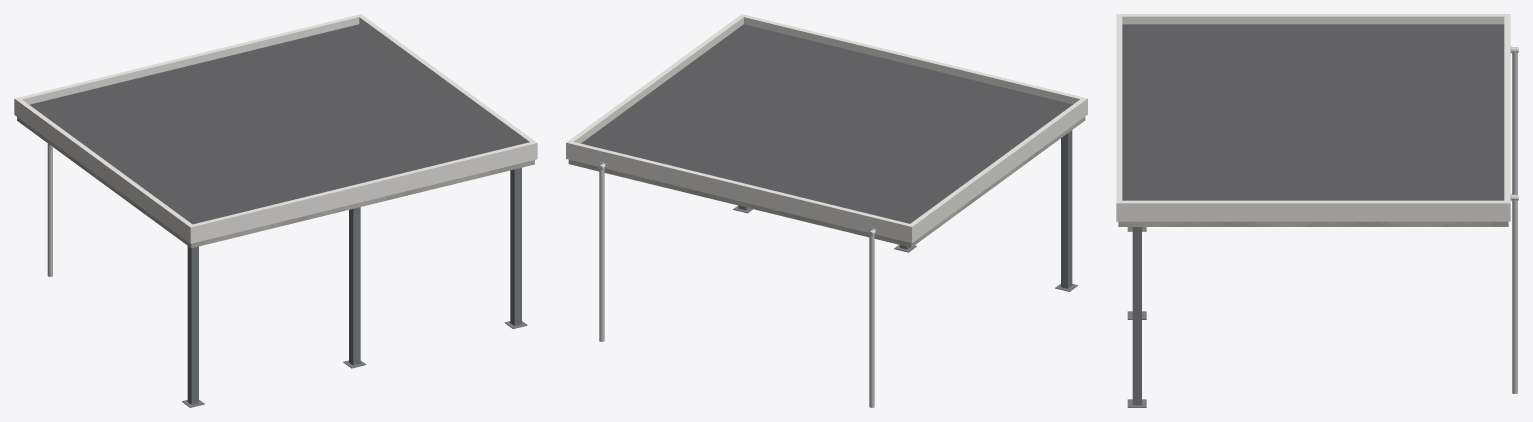
The model's file is r_roof.glb.
The picture shows the model from 3 angles, left to right: view 1: azimuth 30°, elevation 25°; view 2: azimuth 150°, elevation 25°; view 3: azimuth 270°, elevation 25°; orthographic projection. The views are drawn at different scales.
Parts seen in each view (by area): view 1: r_roof_dark, r_roof_trim, r_roof_steel_d, r_roof_concrete, r_roof_galv; view 2: r_roof_dark, r_roof_trim, r_roof_concrete, r_roof_galv, r_roof_steel_d; view 3: r_roof_dark, r_roof_trim, r_roof_concrete, r_roof_galv, r_roof_steel_d.
Boxes of the visible parts, bbox=[...] form: r_roof_dark: bbox=[29, 24, 522, 224]; r_roof_trim: bbox=[14, 14, 537, 243]; r_roof_steel_d: bbox=[182, 167, 527, 407]; r_roof_concrete: bbox=[17, 117, 534, 248]; r_roof_galv: bbox=[47, 143, 52, 276]; r_roof_dark: bbox=[581, 24, 1072, 223]; r_roof_trim: bbox=[566, 14, 1087, 243]; r_roof_concrete: bbox=[568, 117, 1085, 247]; r_roof_galv: bbox=[598, 162, 877, 407]; r_roof_steel_d: bbox=[733, 130, 1077, 291]; r_roof_dark: bbox=[1122, 24, 1504, 200]; r_roof_trim: bbox=[1116, 14, 1510, 221]; r_roof_concrete: bbox=[1118, 221, 1508, 226]; r_roof_galv: bbox=[1510, 45, 1518, 393]; r_roof_steel_d: bbox=[1127, 227, 1146, 407].
Size of the model in its own units: 6.66 by 3.45 by 5.98.
Materials: 7 (1 with a texture image).
